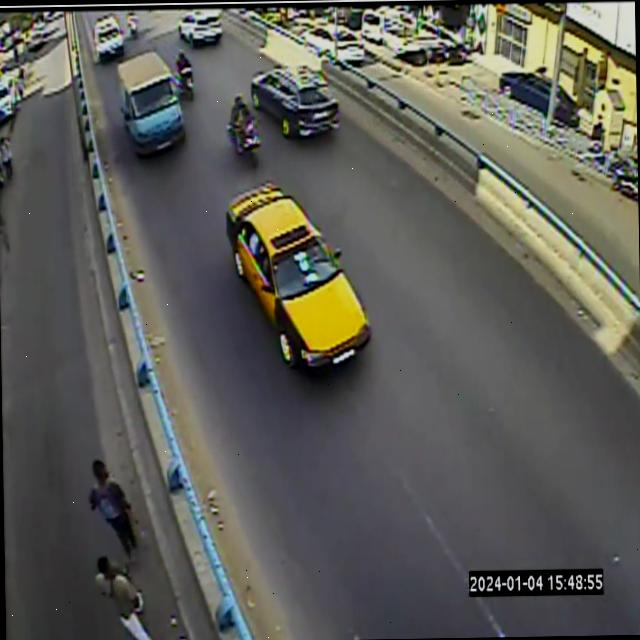car: (225, 182, 370, 367), (117, 50, 184, 154), (250, 65, 338, 137), (177, 8, 222, 45), (93, 15, 123, 60)
